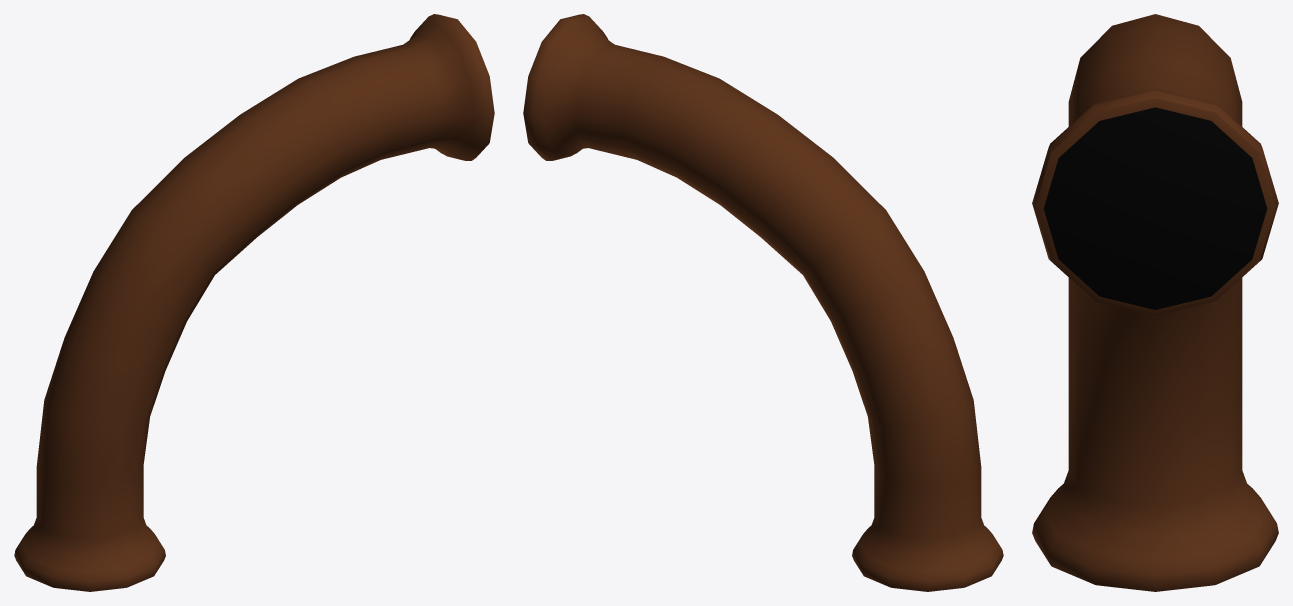
Rendered from Pipe_Curve_2x2.fbx.
3 renders of one model, left to right at view 1: azimuth 30°, elevation 25°; view 2: azimuth 150°, elevation 25°; view 3: azimuth 270°, elevation 25°, orthographic. The views are drawn at different scales.
Parts seen in each view (by area): view 1: Pipe_Curve_2x2; view 2: Pipe_Curve_2x2; view 3: Pipe_Curve_2x2.
Boxes of the visible parts, <box> form: Pipe_Curve_2x2: <box>14,14,494,591</box>; Pipe_Curve_2x2: <box>523,14,1003,591</box>; Pipe_Curve_2x2: <box>1032,14,1278,591</box>.
Bounding box in the file's own units: 236 × 236 × 71.06.
